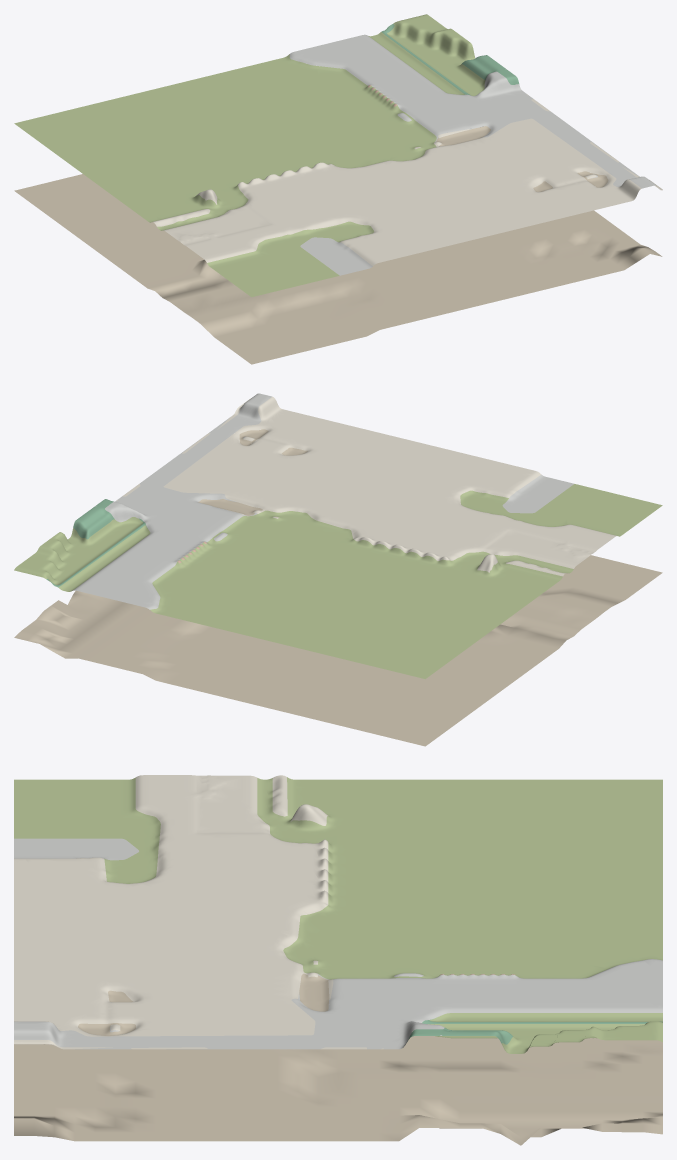
The picture shows the model from 3 angles, top to bottom: view 1: azimuth 30°, elevation 25°; view 2: azimuth 150°, elevation 25°; view 3: azimuth 270°, elevation 25°; orthographic projection. The views are drawn at different scales.
Parts seen in each view (by area): view 1: s_-2_-1__grass, s_-2_-1__soil, s_-2_-1__paving, s_-2_-1__stone_paving, s_-2_-1__green_court; view 2: s_-2_-1__grass, s_-2_-1__soil, s_-2_-1__paving, s_-2_-1__stone_paving, s_-2_-1__green_court; view 3: s_-2_-1__grass, s_-2_-1__paving, s_-2_-1__soil, s_-2_-1__stone_paving, s_-2_-1__green_court.
Boxes of the visible parts, left/top/right/bottom form: s_-2_-1__grass: left=14, top=14, right=485, bottom=297; s_-2_-1__soil: left=14, top=126, right=662, bottom=364; s_-2_-1__paving: left=153, top=94, right=662, bottom=265; s_-2_-1__stone_paving: left=289, top=34, right=656, bottom=275; s_-2_-1__green_court: left=381, top=24, right=519, bottom=95; s_-2_-1__grass: left=14, top=484, right=662, bottom=679; s_-2_-1__soil: left=14, top=429, right=662, bottom=746; s_-2_-1__paving: left=116, top=396, right=616, bottom=576; s_-2_-1__stone_paving: left=72, top=393, right=574, bottom=609; s_-2_-1__green_court: left=46, top=499, right=147, bottom=587; s_-2_-1__grass: left=14, top=777, right=662, bottom=1053; s_-2_-1__paving: left=14, top=775, right=383, bottom=1049; s_-2_-1__soil: left=14, top=960, right=662, bottom=1145; s_-2_-1__stone_paving: left=14, top=838, right=662, bottom=1049; s_-2_-1__green_court: left=407, top=1019, right=662, bottom=1044.
Size of the model in its own units: 128 by 24.01 by 128.
